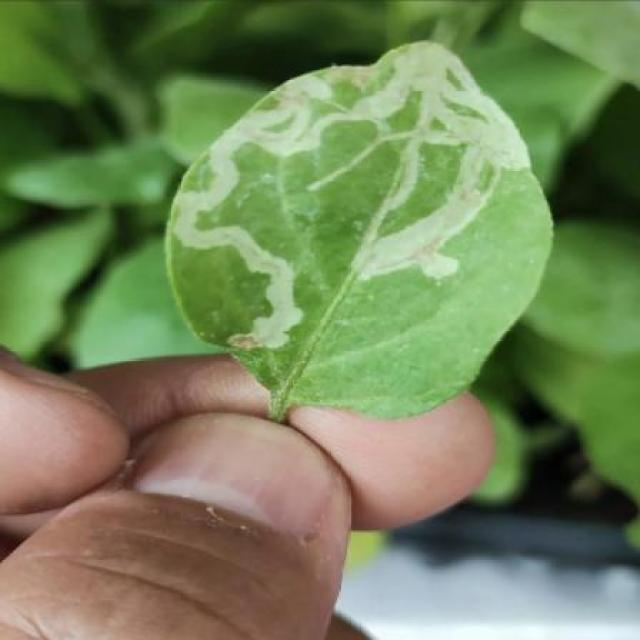Leaf Miner: (165, 31, 554, 423)
